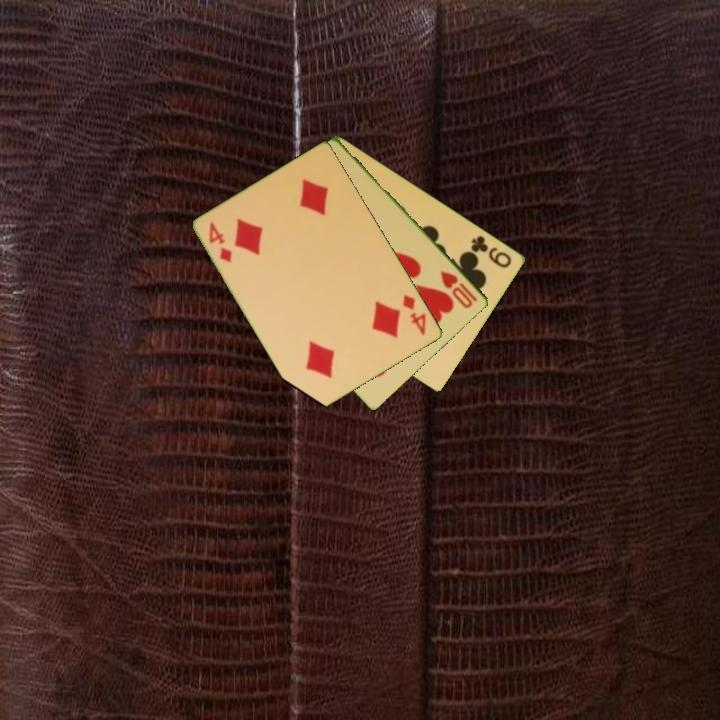10h: (437, 267, 481, 311)
4d: (399, 291, 429, 338), (206, 218, 235, 265)
9c: (468, 232, 515, 271)
